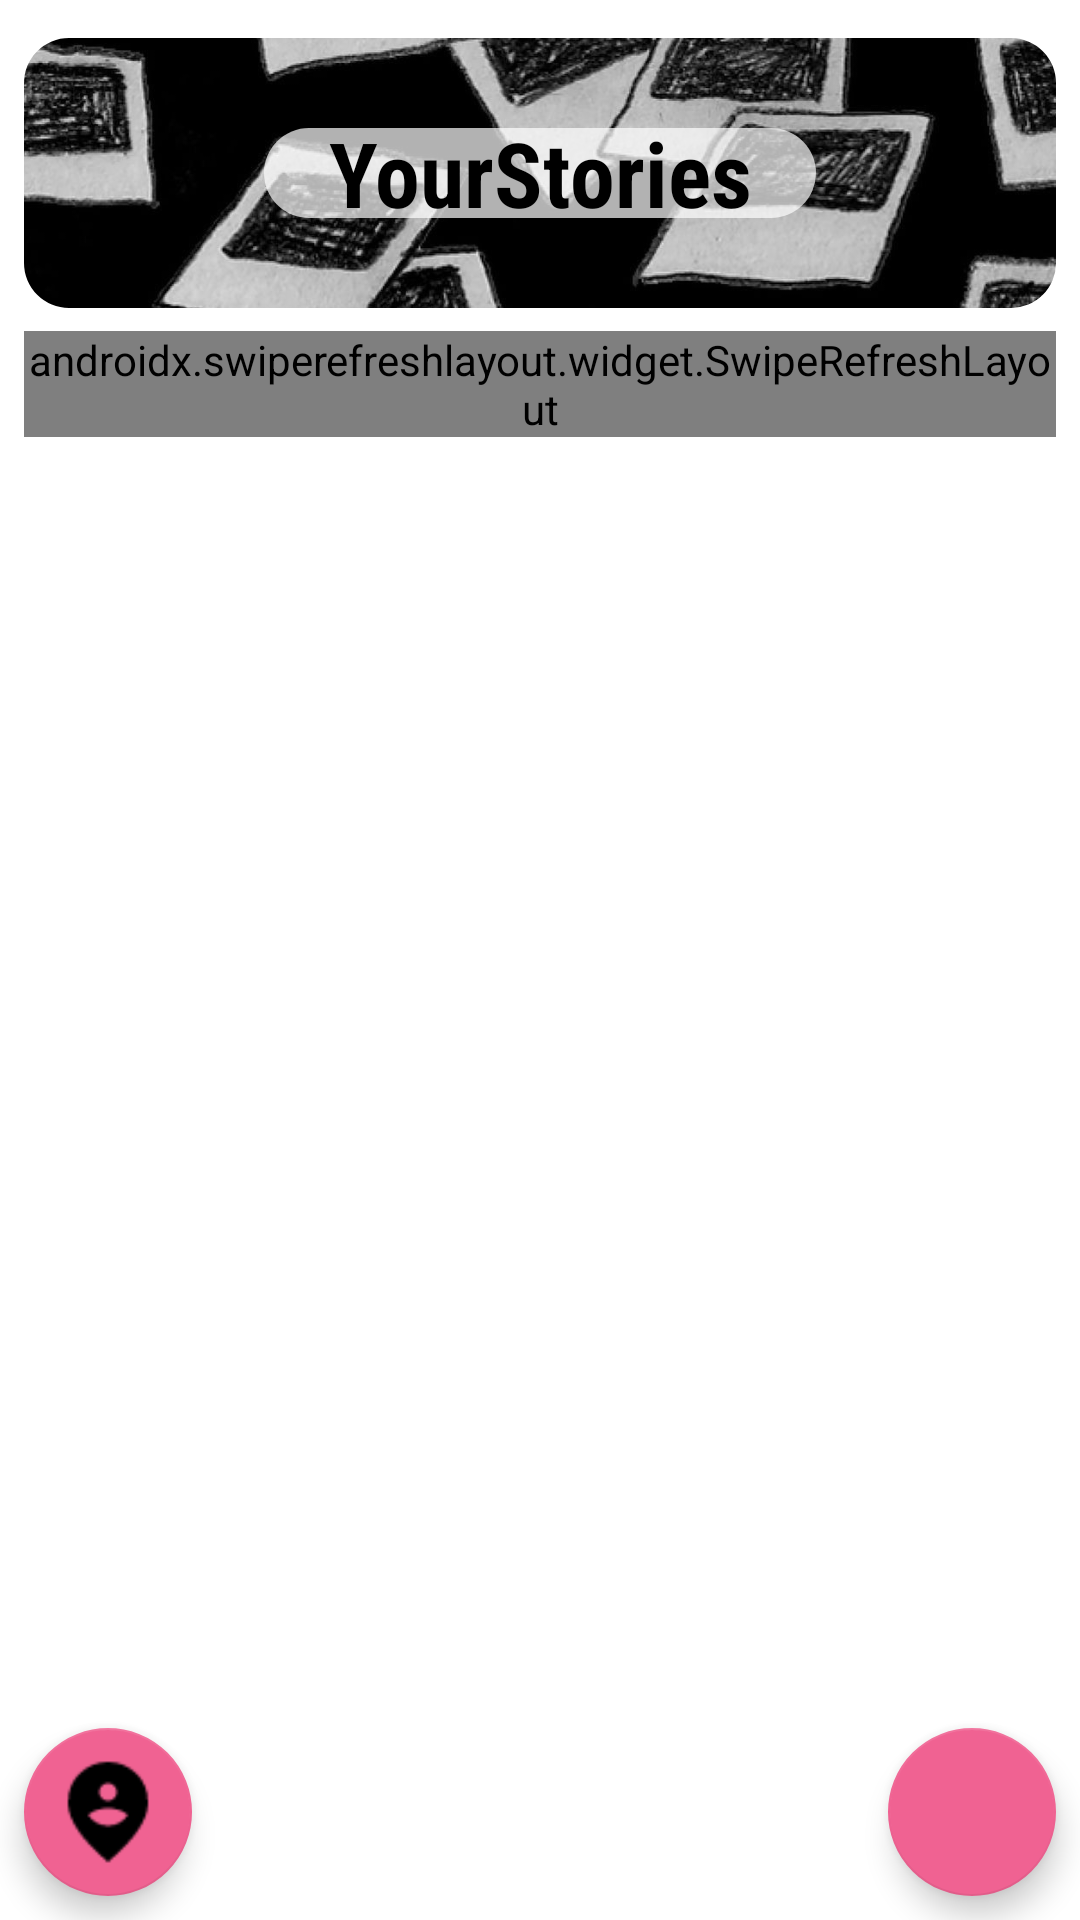

Locate icon controls on the screen. Image size 1080px x 1920px, boxes as (x1,y1,x2,y2).
maps: (24,1728,192,1896)
